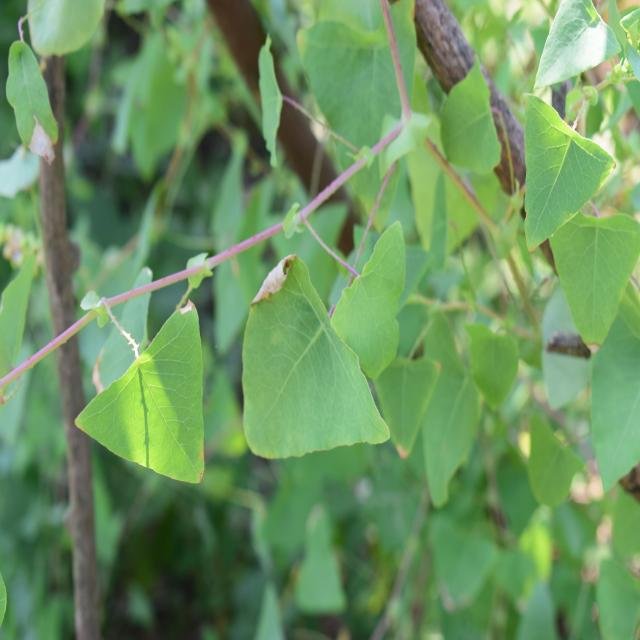Asiatic_Smartweed: (219, 156, 439, 459), (52, 241, 217, 491), (522, 0, 638, 354)
